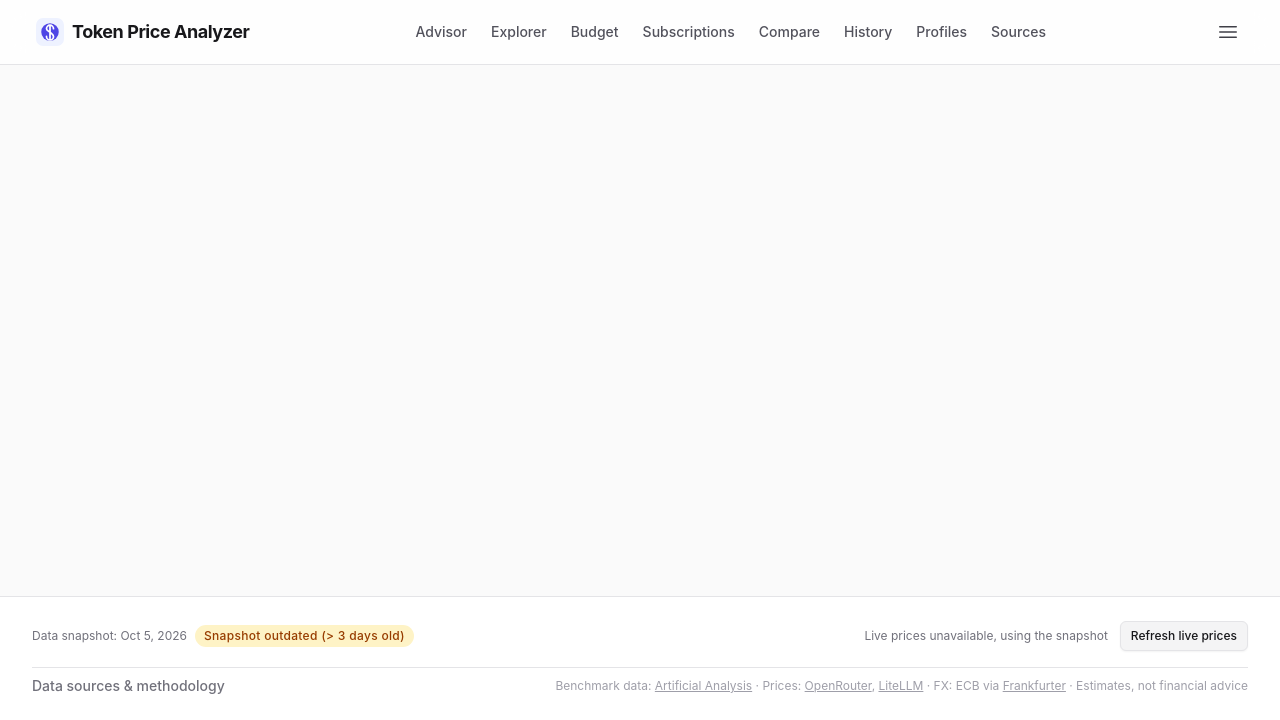
Test: App Shell › keeps navigation and all settings in an accessible disclosure below the desktop breakpoint
The image size is (1280, 720).
Click the button named "Open main menu": (1228, 32) [1208,12,1248,52]
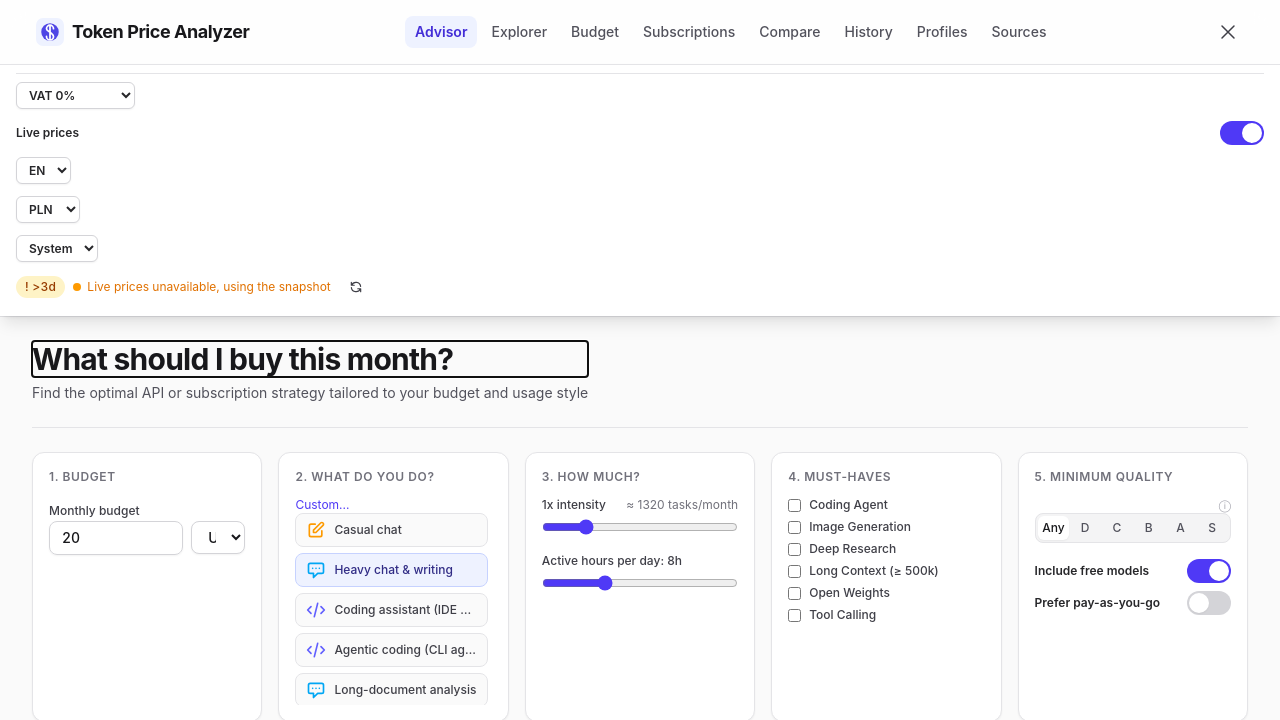
Now the button named "Open main menu" is expanded, box [1208,12,1248,52]
Now the dropdown named "Language" is shown, box [16,157,71,184]
Now the dropdown named "Currency" is shown, box [16,196,80,223]
Press Escape
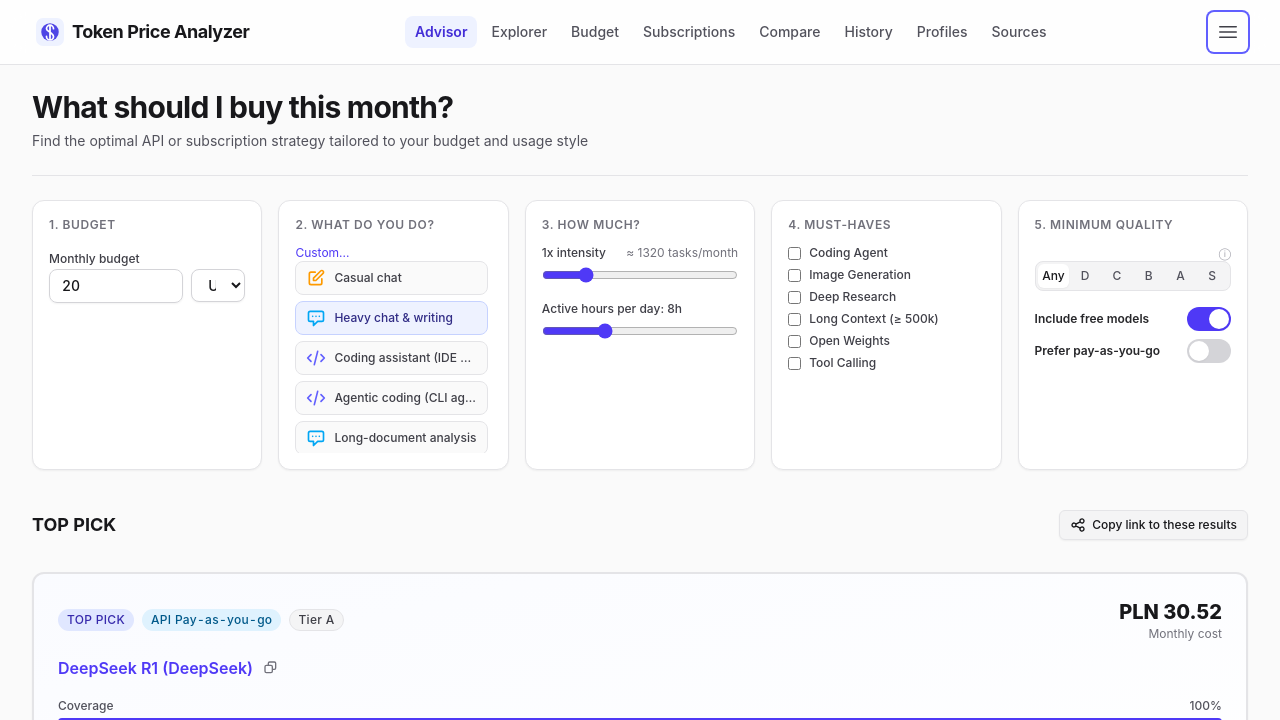
Now the button named "Open main menu" is collapsed, box [1208,12,1248,52]
